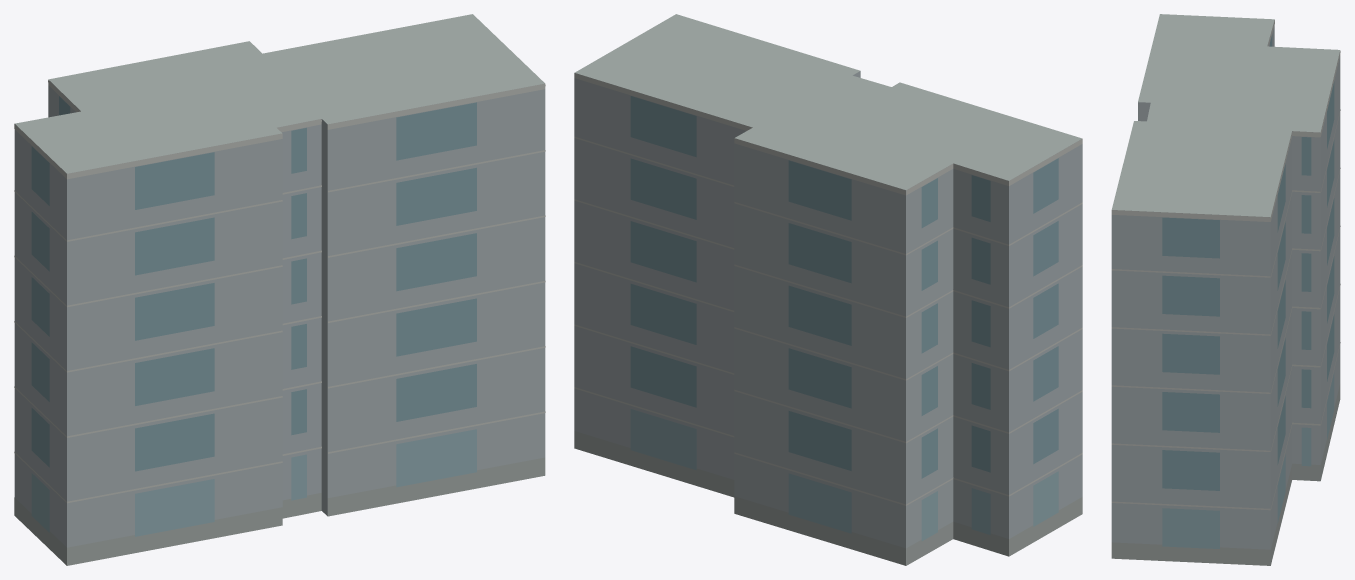
Rendered from survey-upis-32763752.glb.
3 views of the same model, side by side, from view 1: azimuth 30°, elevation 25°; view 2: azimuth 150°, elevation 25°; view 3: azimuth 270°, elevation 25° (orthographic). The views are drawn at different scales.
Parts seen in each view (by area): view 1: survey-upis-32763752.tmp; view 2: survey-upis-32763752.tmp; view 3: survey-upis-32763752.tmp.
Part boxes in pixels (bbox=[...]): survey-upis-32763752.tmp: bbox=[14, 14, 545, 565]; survey-upis-32763752.tmp: bbox=[574, 14, 1082, 565]; survey-upis-32763752.tmp: bbox=[1111, 14, 1340, 565].
Bounding box in the file's own units: 21.51 × 17.2 × 10.25.
